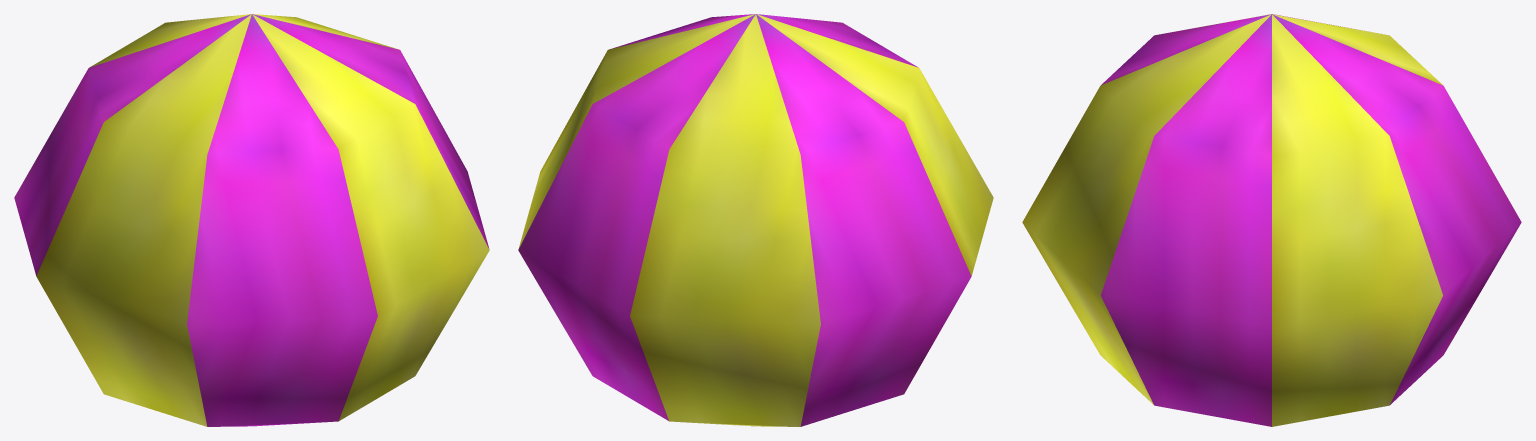
File: clownBall.FBX
3 renders of one model, left to right at view 1: azimuth 30°, elevation 25°; view 2: azimuth 150°, elevation 25°; view 3: azimuth 270°, elevation 25°, orthographic.
Visible parts, largest first — view 1: ball; view 2: ball; view 3: ball.
Boxes of the visible parts, x1,y1,x2,y2 form: ball: (14, 14, 489, 426); ball: (518, 14, 993, 426); ball: (1022, 14, 1521, 426).
Bounding box in the file's own units: 33.5 × 30.61 × 33.9.
